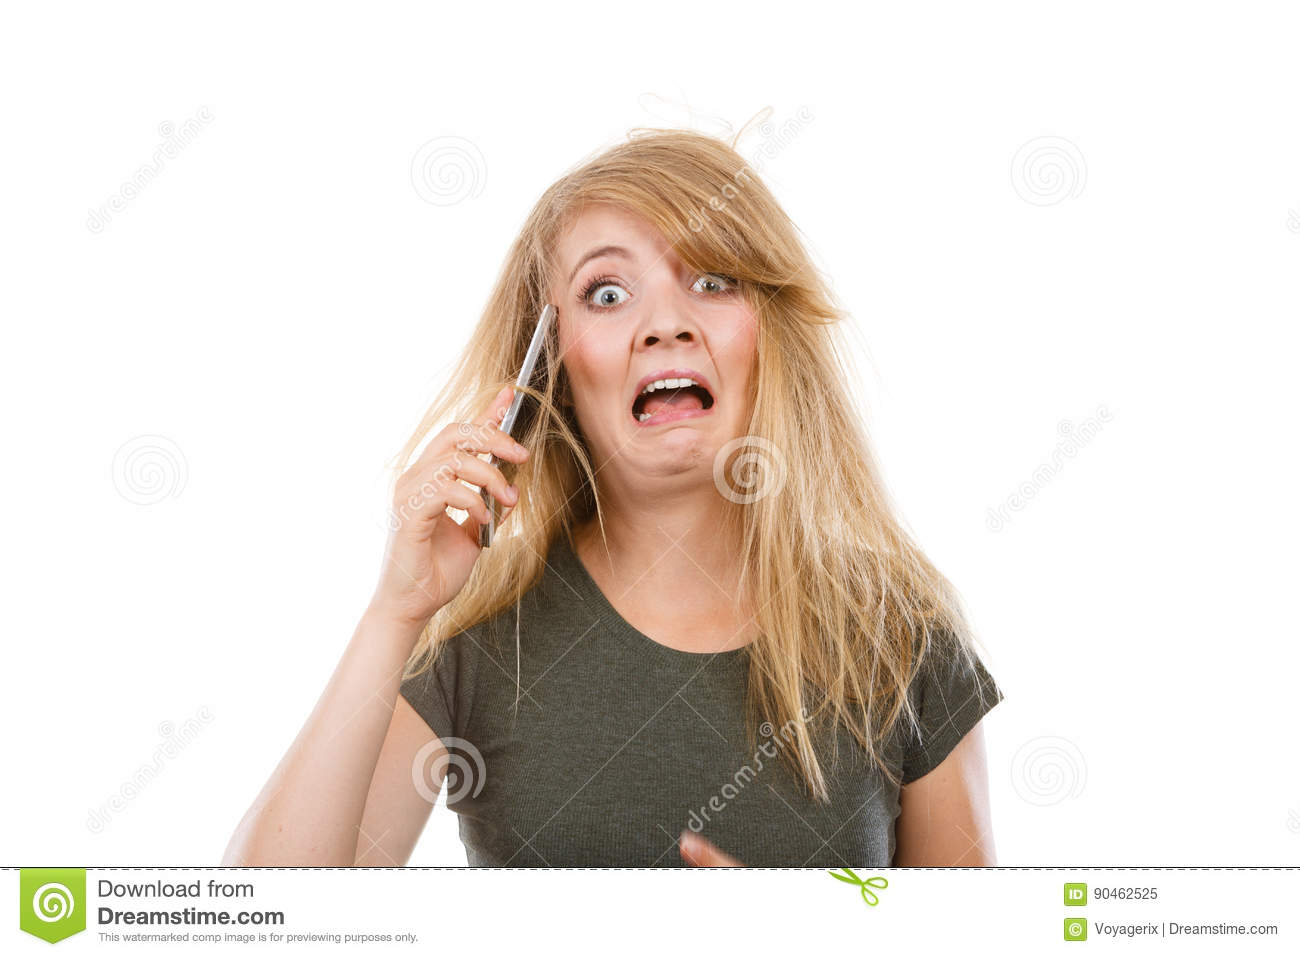phone: (468, 292, 564, 554)
talk: (381, 240, 758, 624)
